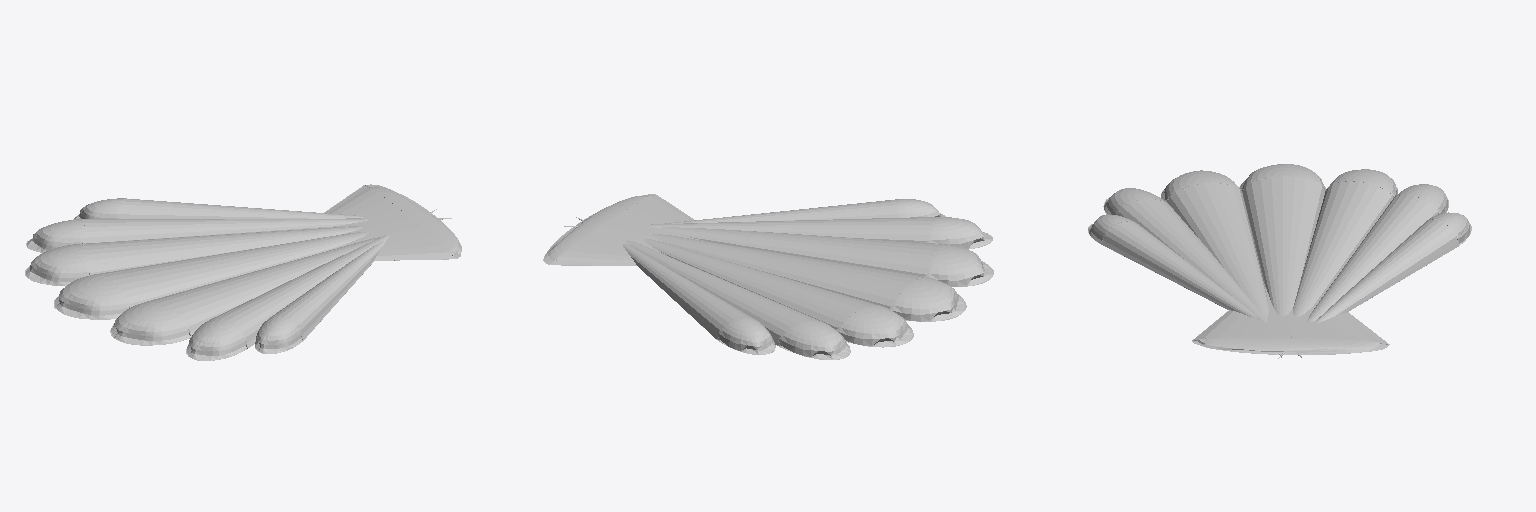
File: shell.obj
The picture shows the model from 3 angles: view 1: azimuth 30°, elevation 25°; view 2: azimuth 150°, elevation 25°; view 3: azimuth 270°, elevation 25°; orthographic projection.
Visible parts, largest first — view 1: Sphere006, Sphere008; view 2: Sphere006, Sphere008; view 3: Sphere006, Sphere008.
Part boxes in pixels (x1,y1,x2,y2): Sphere006: (25, 198, 451, 360); Sphere008: (324, 184, 461, 260); Sphere006: (564, 199, 993, 359); Sphere008: (543, 194, 702, 265); Sphere006: (1088, 164, 1471, 358); Sphere008: (1192, 284, 1389, 354).
Bounding box in the file's own units: 8 × 0.3573 × 6.8.